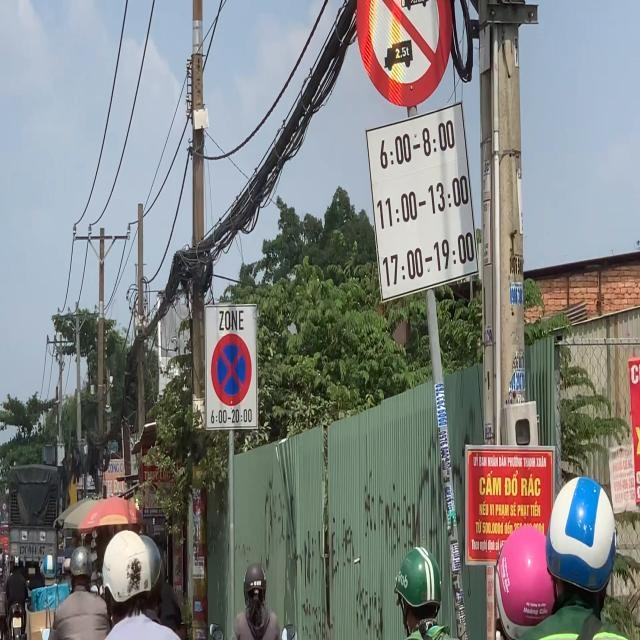bien_cam: (211, 334, 252, 406)
